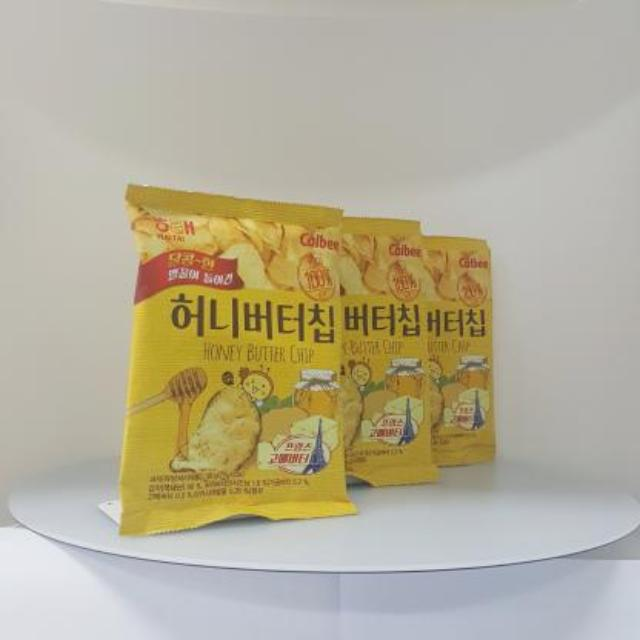snack_bag: (103, 163, 507, 553)
